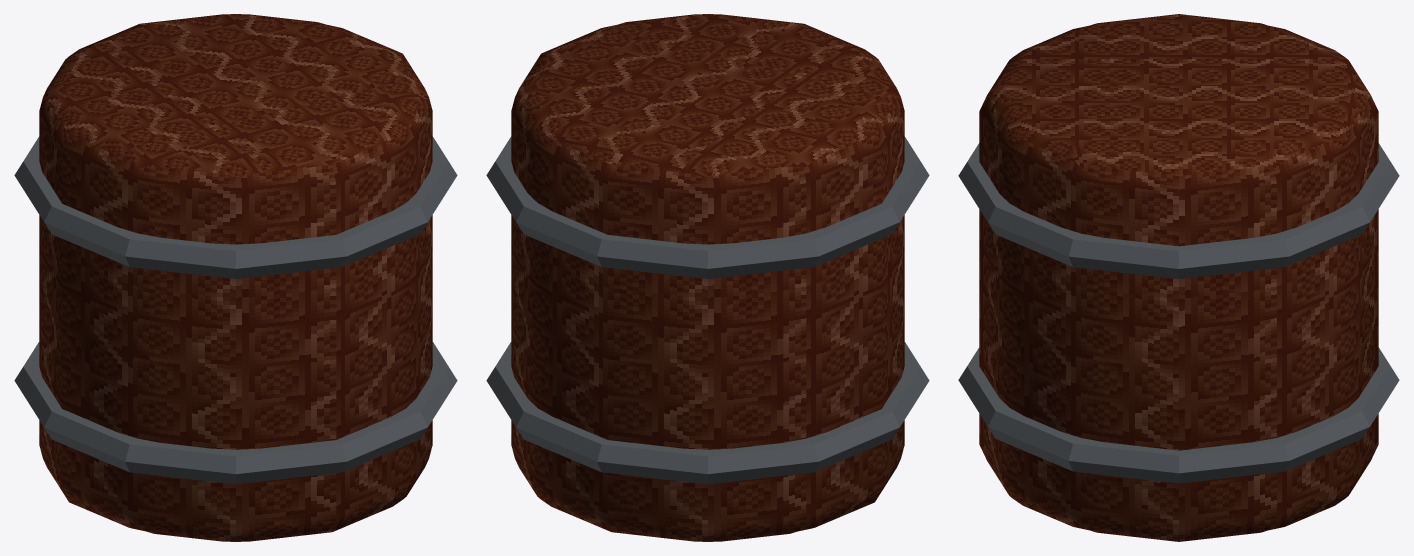
The model's file is barrel.glb.
3 renders of one model, left to right at view 1: azimuth 30°, elevation 25°; view 2: azimuth 150°, elevation 25°; view 3: azimuth 270°, elevation 25°, orthographic.
Visible parts, largest first — view 1: barrel_body, barrel_iron; view 2: barrel_body, barrel_iron; view 3: barrel_body, barrel_iron.
Part boxes in pixels (bbox=[...]): barrel_body: bbox=[39, 14, 432, 541]; barrel_iron: bbox=[14, 136, 457, 484]; barrel_body: bbox=[511, 14, 904, 541]; barrel_iron: bbox=[486, 136, 929, 484]; barrel_body: bbox=[979, 14, 1378, 541]; barrel_iron: bbox=[958, 143, 1399, 483].
Bounding box in the file's own units: 1.37 × 1.3 × 1.37.
2 materials, 1 textured.
